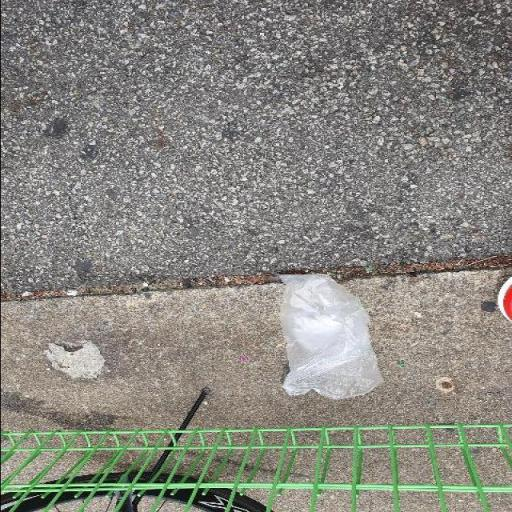plastic-bag: (277, 268, 383, 401)
